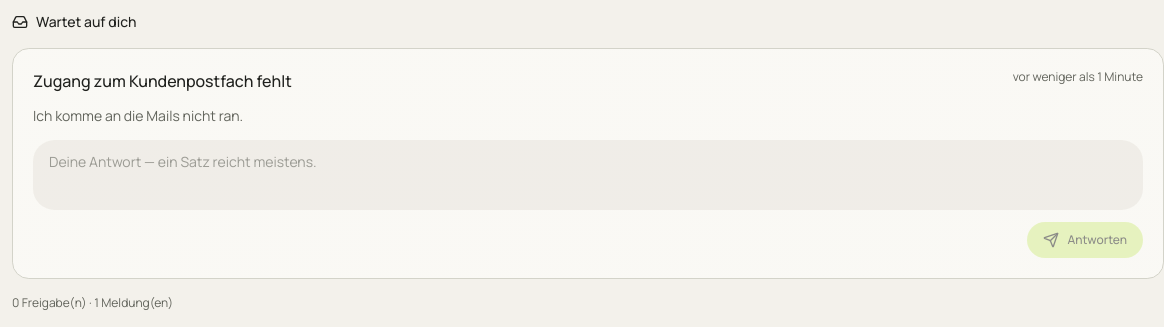
Scenario: Wartet auf dich › beantwortet eine Meldung an Ort und Stelle
Expected: the text "Zugang zum Kundenpostfach fehlt" is shown, x1=33 y1=69 x2=292 y2=93
Step 1. Type "Liegt im Passwortmanager." into the text box named "Antwort auf Zugang zum Kundenpostfach" → (588, 175), box x1=33 y1=140 x2=1143 y2=210
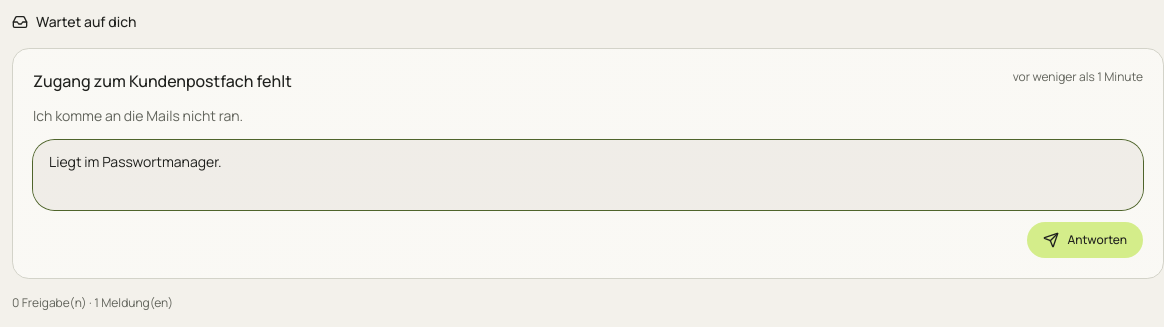
Step 2. Click the button "Antworten" → (1085, 240), box x1=1027 y1=222 x2=1143 y2=258
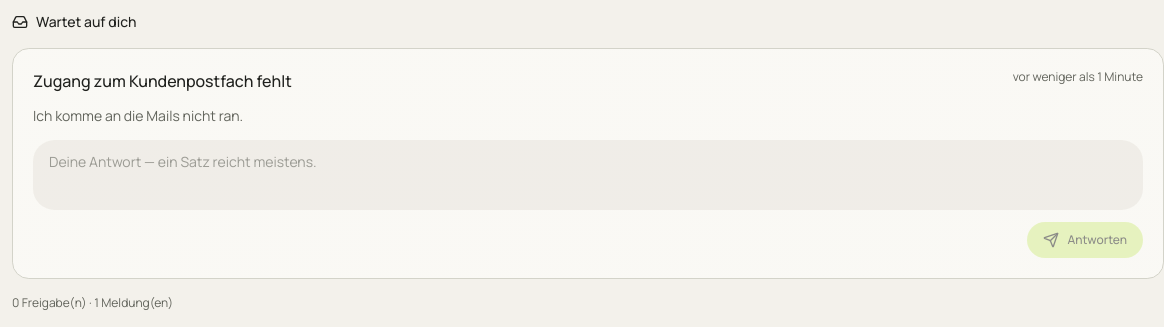
Now the text box named "Antwort auf Zugang zum Kundenpostfach" is empty, box x1=33 y1=140 x2=1143 y2=210
